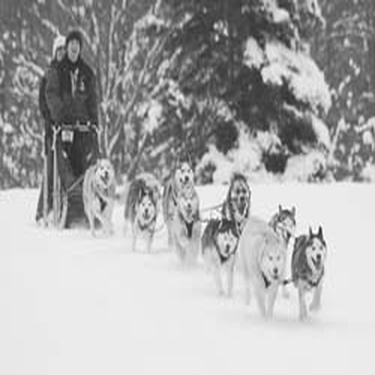dog: (179, 209, 250, 310), (231, 216, 291, 320), (289, 217, 331, 328), (151, 144, 203, 233), (211, 156, 259, 250), (122, 173, 170, 262), (79, 152, 126, 239), (168, 180, 210, 269), (260, 198, 305, 273)
